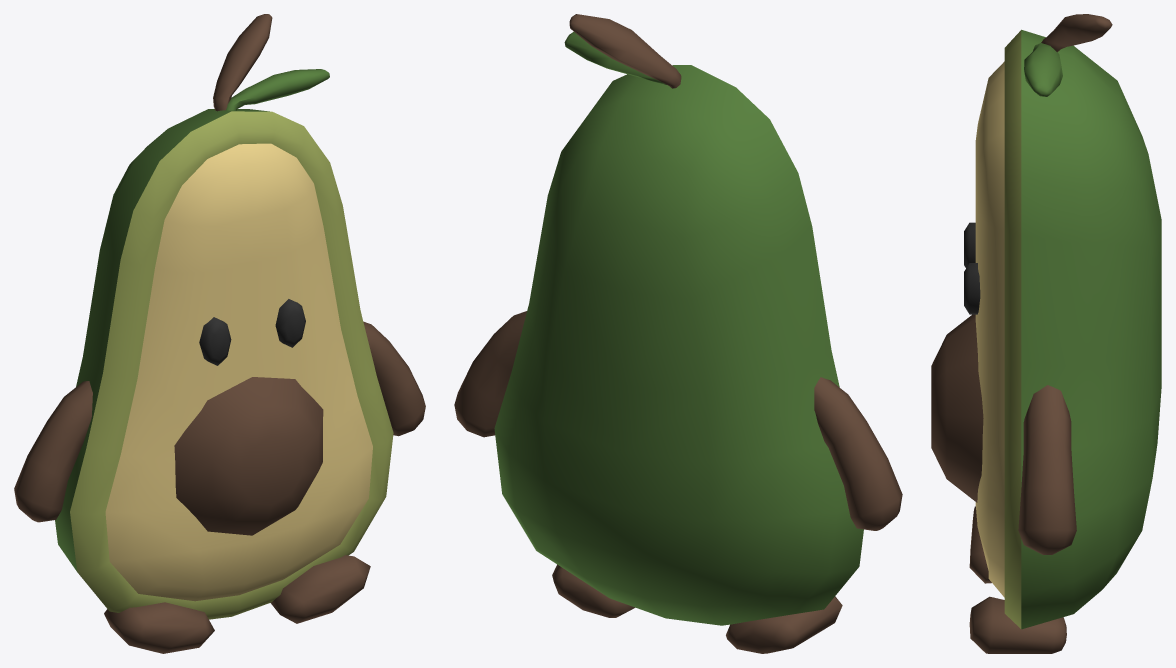
File: Avocado.fbx
3 renders of one model, left to right at view 1: azimuth 30°, elevation 25°; view 2: azimuth 150°, elevation 25°; view 3: azimuth 270°, elevation 25°, orthographic. The views are drawn at different scales.
Visible parts, largest first — view 1: Avocado; view 2: Avocado; view 3: Avocado.
Boxes of the visible parts, <box> form: Avocado: <box>14,14,425,653</box>; Avocado: <box>454,14,902,653</box>; Avocado: <box>931,14,1161,653</box>.
Bounding box in the file's own units: 4.25 × 5.68 × 1.88.
